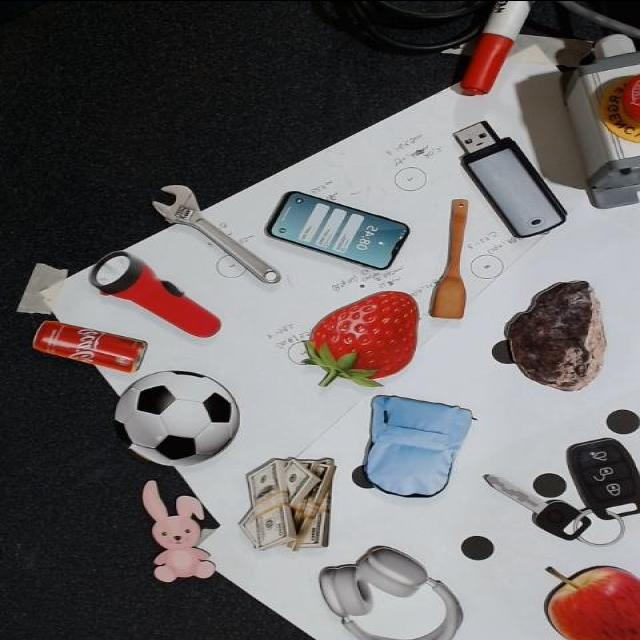Other Objects: (482, 412, 638, 559), (349, 390, 477, 508), (454, 120, 580, 238), (92, 238, 222, 346), (320, 545, 466, 640), (152, 184, 282, 284), (113, 369, 243, 467), (266, 190, 412, 270), (506, 280, 610, 392), (238, 457, 338, 552), (327, 1, 497, 56), (546, 565, 640, 640), (34, 319, 150, 374), (429, 199, 471, 319)
